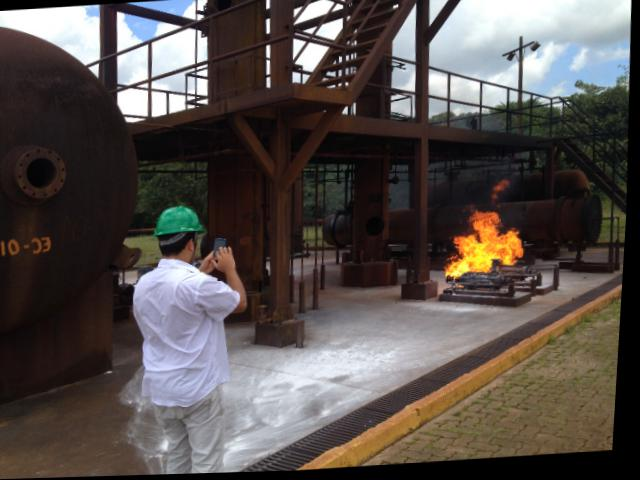fire: (444, 210, 527, 291)
